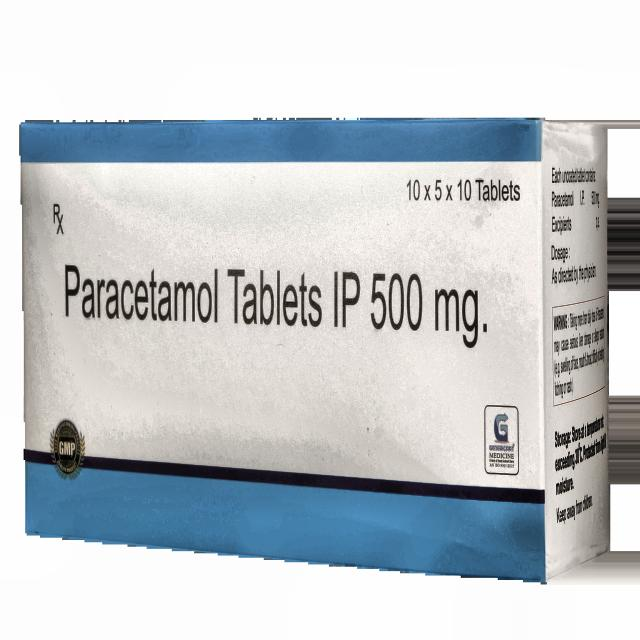Paracetamol: (42, 251, 217, 352)
